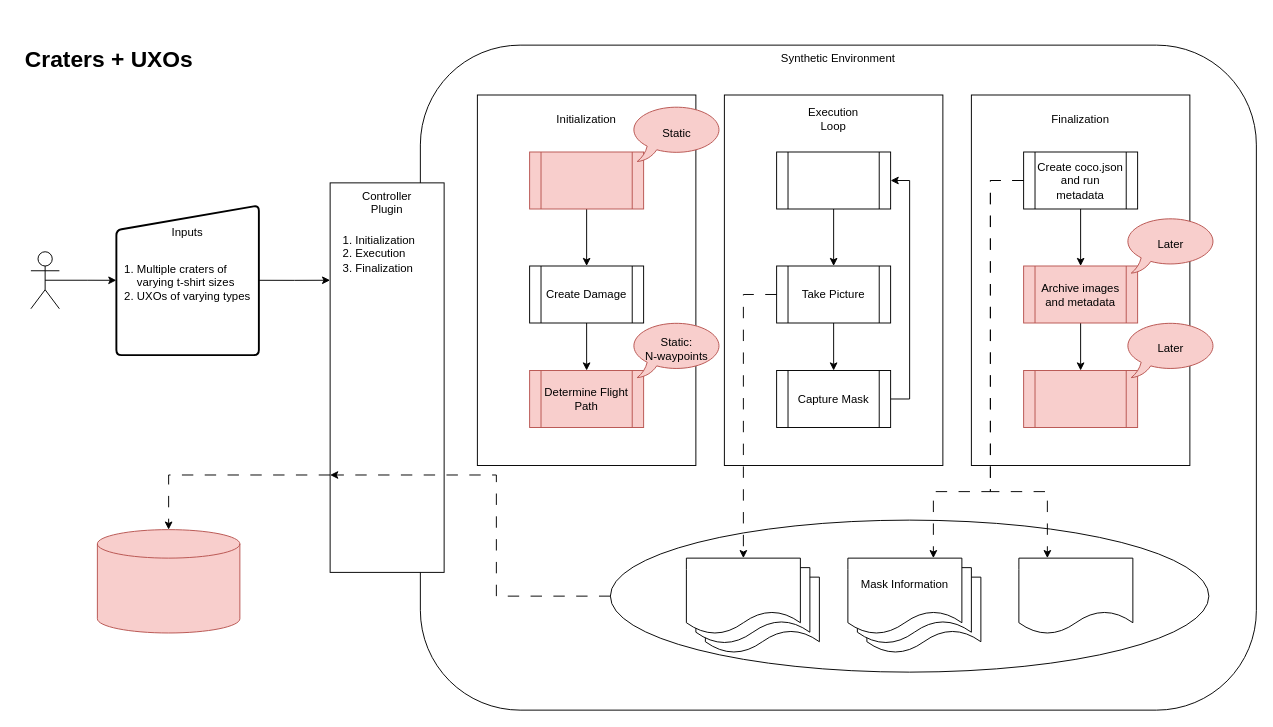
The diagram is 1273 pixels wide and 727 high, and some of its shapes have lost their labels. The shapes that lost their labels are listed below. From the top down, each one's centre as x and y in pixels, then its label:
At pixel 586 180: "Create Runway".
At pixel 833 180: "Move Camera".
At pixel 44 280: "Actor".
At pixel 1080 399: "Notify Complete".
At pixel 168 581: "Image Repository".
At pixel 742 595: "Images".
At pixel 1075 595: "Metadata".
